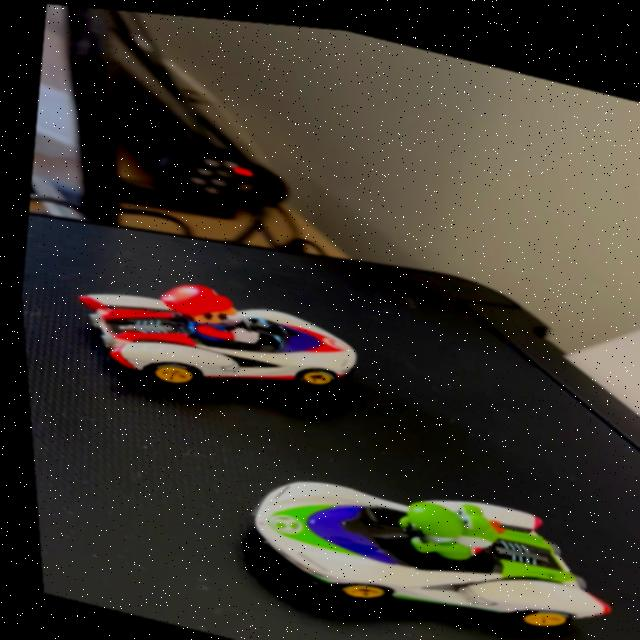mario: (46, 248, 375, 417)
yoshi: (362, 460, 631, 640)
